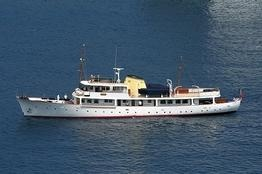otherboat: (13, 73, 245, 118)
